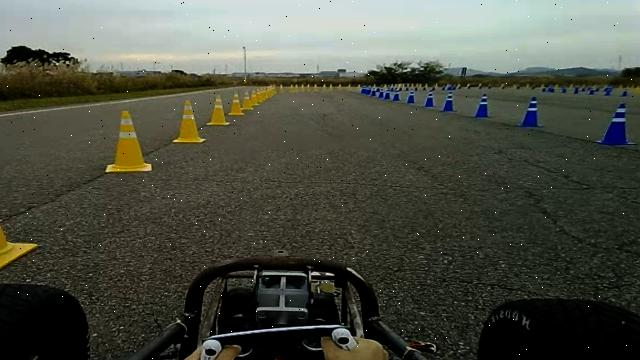blue cone: (593, 102, 637, 145), (517, 96, 545, 128), (473, 93, 493, 118), (441, 91, 457, 112), (424, 86, 435, 108), (406, 90, 416, 104), (394, 86, 401, 101)
yellow cone: (0, 122, 22, 282), (105, 110, 153, 172), (172, 99, 206, 143), (207, 94, 230, 126), (229, 92, 245, 115), (241, 92, 254, 110), (250, 92, 261, 106)
